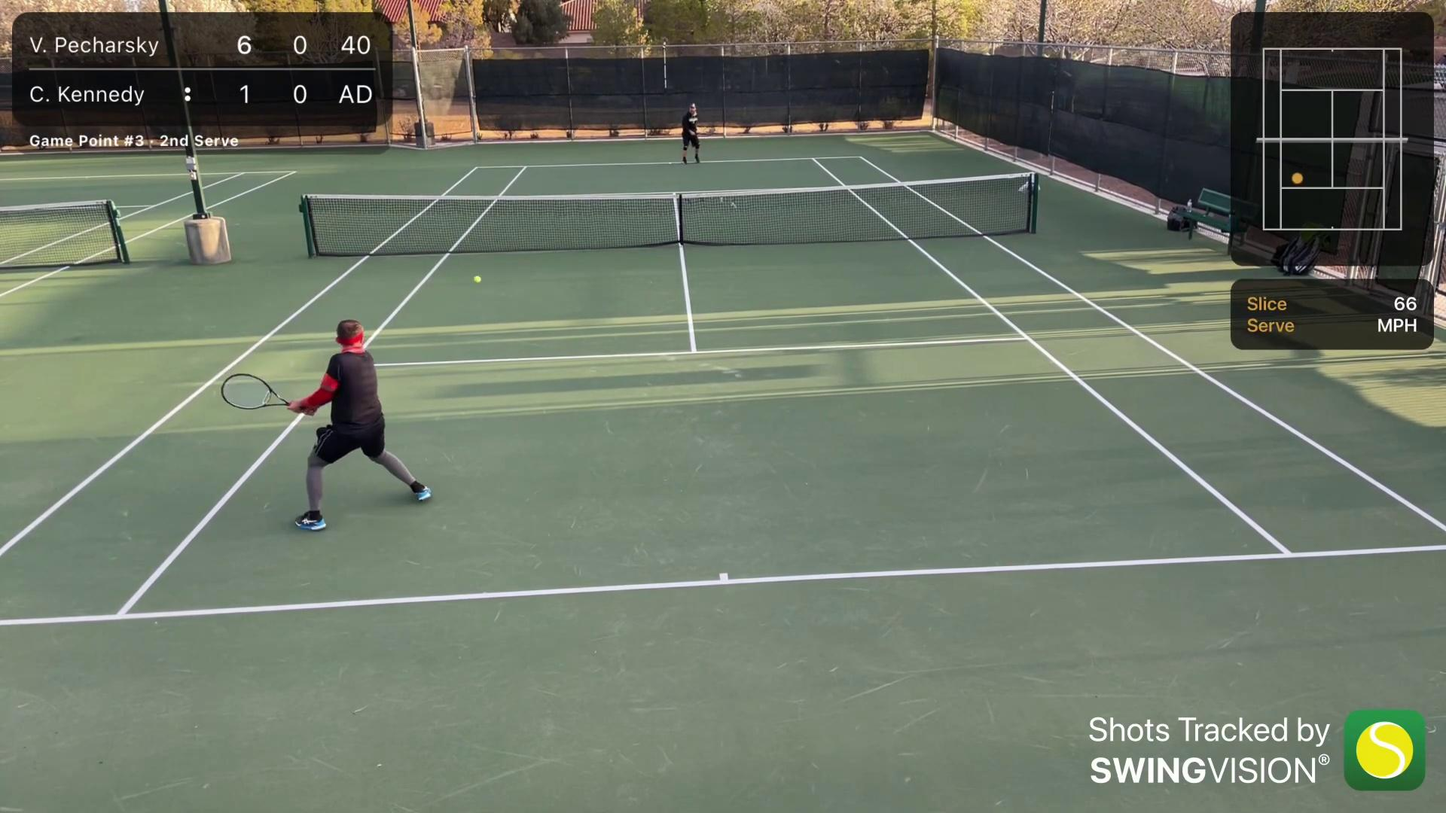ball: (472, 274, 482, 283)
